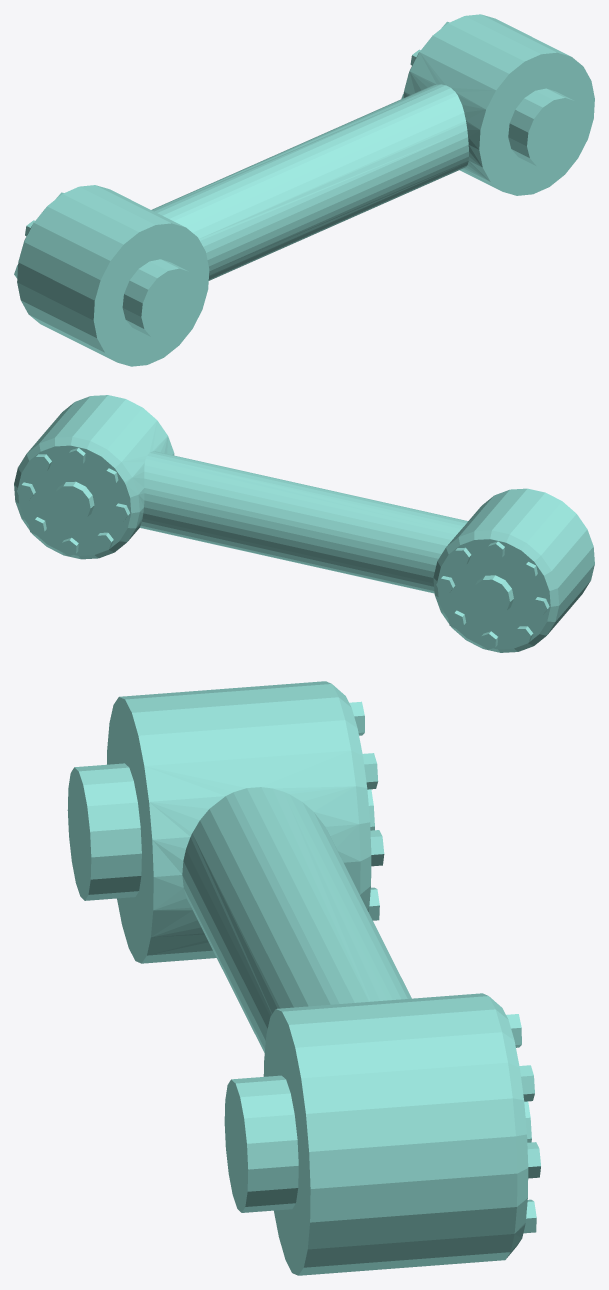
File: Mars6Mars_Rover__Curiosity_1_0__-_16_Arm_1-2.001.dae
3 renders of one model, top to bottom at view 1: azimuth 30°, elevation 25°; view 2: azimuth 150°, elevation 25°; view 3: azimuth 270°, elevation 25°, orthographic. The views are drawn at different scales.
Parts seen in each view (by area): view 1: tmp_export_Mars6Mars_Rover__Curiosity_1_0__-_16_Arm_1-2.001; view 2: tmp_export_Mars6Mars_Rover__Curiosity_1_0__-_16_Arm_1-2.001; view 3: tmp_export_Mars6Mars_Rover__Curiosity_1_0__-_16_Arm_1-2.001.
Part boxes in pixels (bbox=[...]): tmp_export_Mars6Mars_Rover__Curiosity_1_0__-_16_Arm_1-2.001: bbox=[14, 14, 594, 366]; tmp_export_Mars6Mars_Rover__Curiosity_1_0__-_16_Arm_1-2.001: bbox=[14, 395, 594, 652]; tmp_export_Mars6Mars_Rover__Curiosity_1_0__-_16_Arm_1-2.001: bbox=[67, 681, 540, 1275].
Bounding box in the file's own units: 1.19 × 0.4795 × 0.337.
